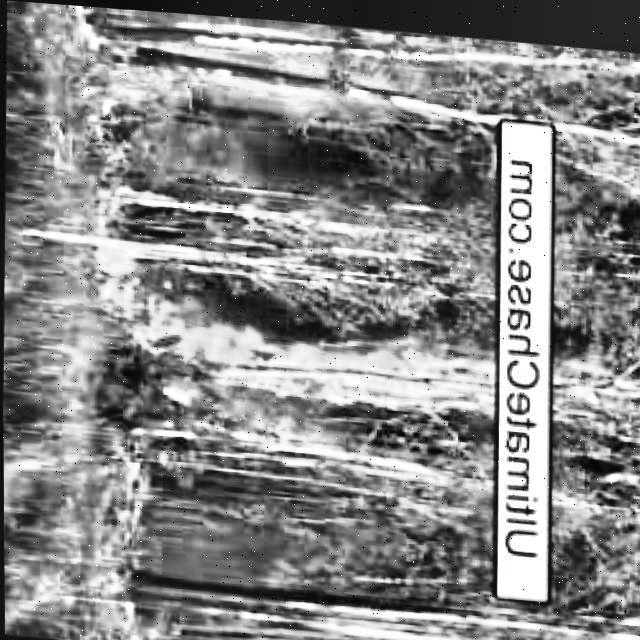Fire: (183, 313, 489, 409), (82, 220, 179, 362), (550, 352, 640, 415)
